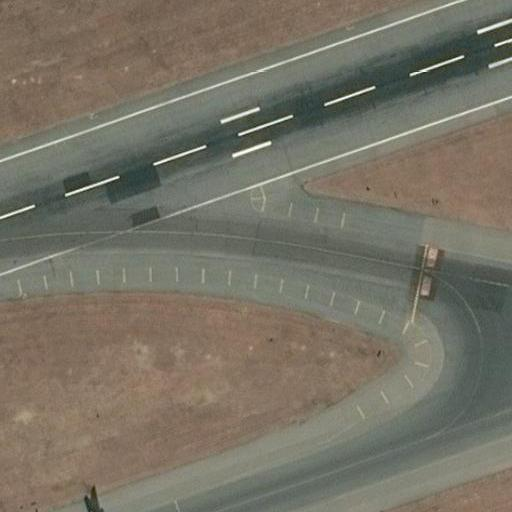Aircraft: (16, 495, 150, 512)
